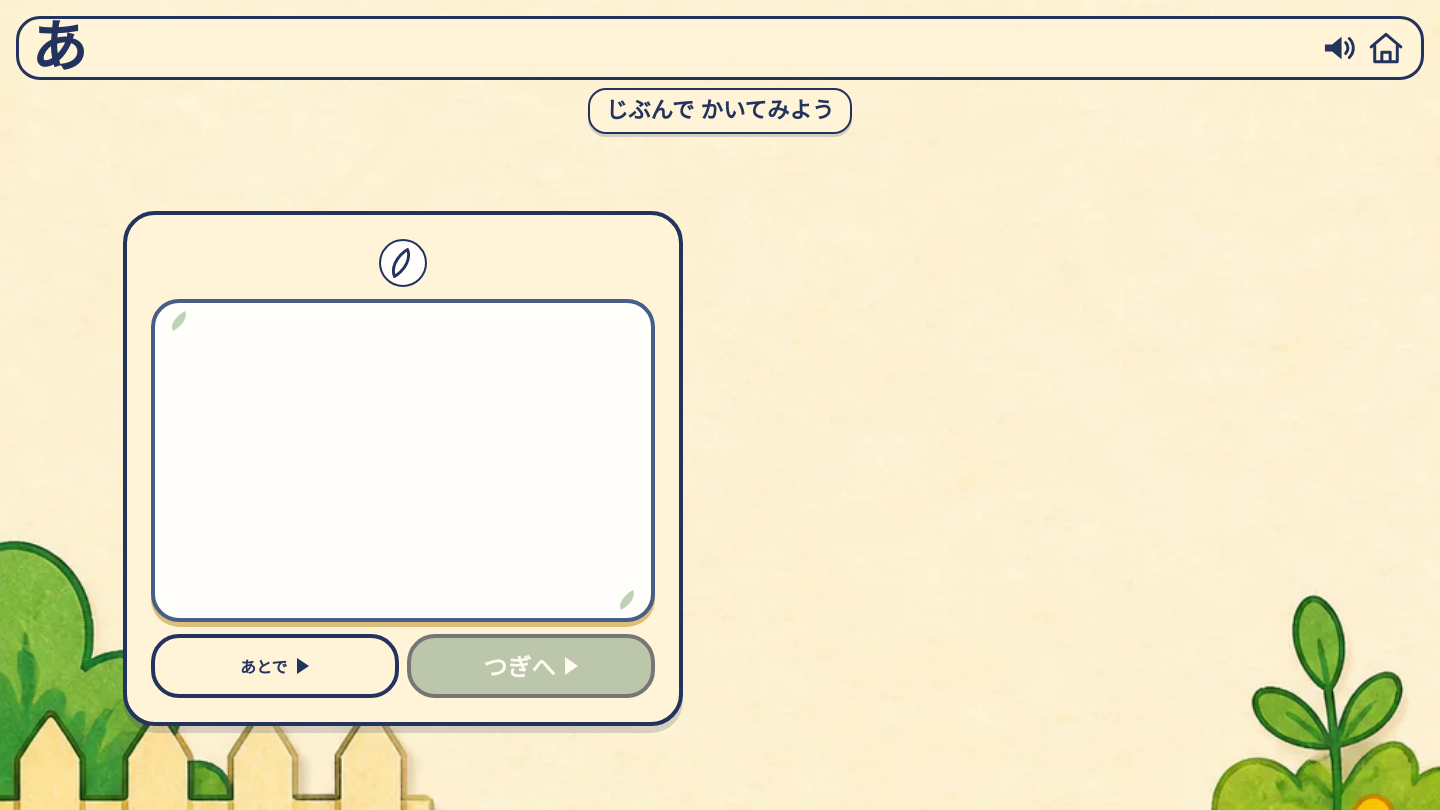
LessonScreen › 自由書字は見本を隠して始め、明示tapで表示と非表示を切り替える
Click the button named "あ の おてほんを みる".
click(403, 263)  # box x1=379 y1=239 x2=427 y2=287
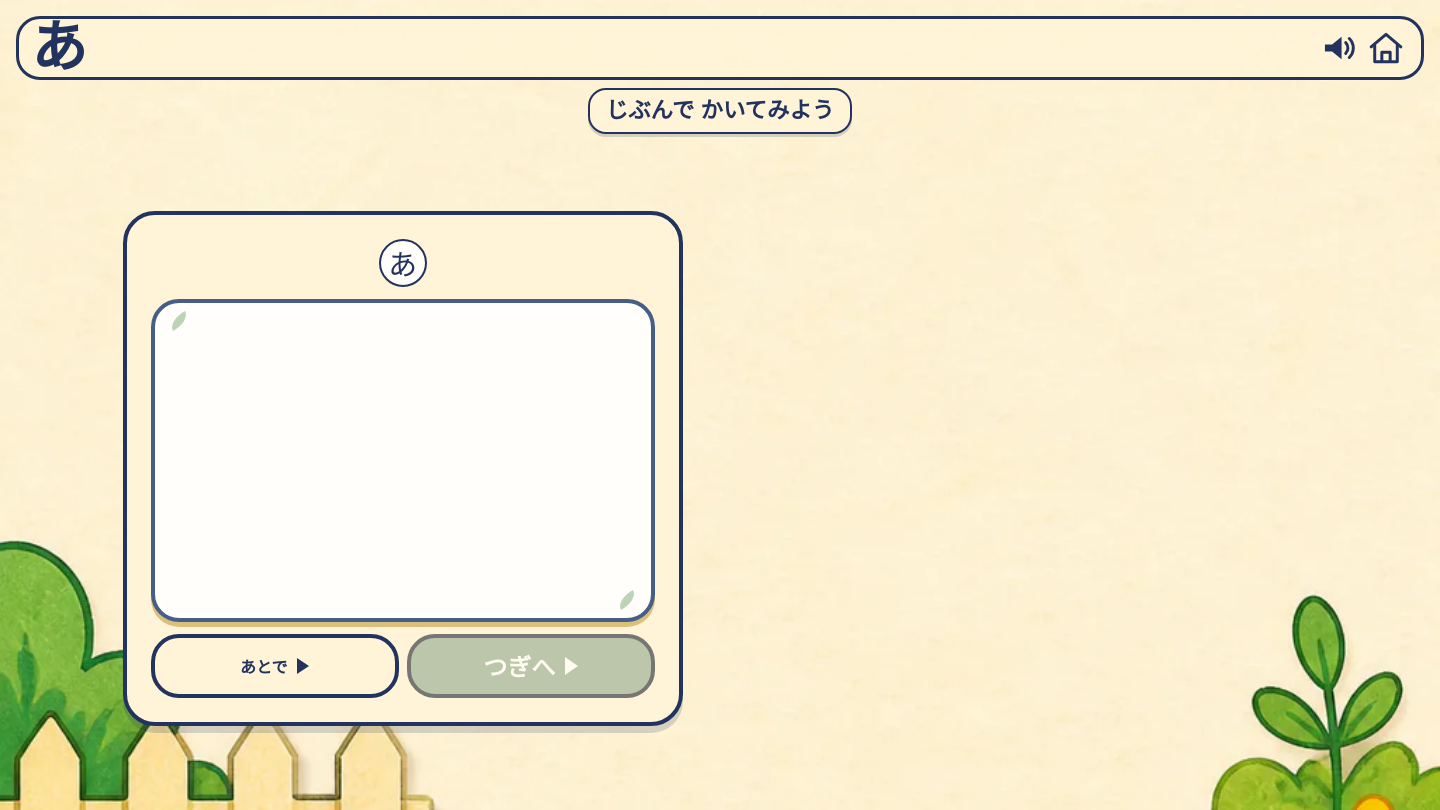
Now the button named "あ の おてほんを かくす" reads "あ", box x1=379 y1=239 x2=427 y2=287
